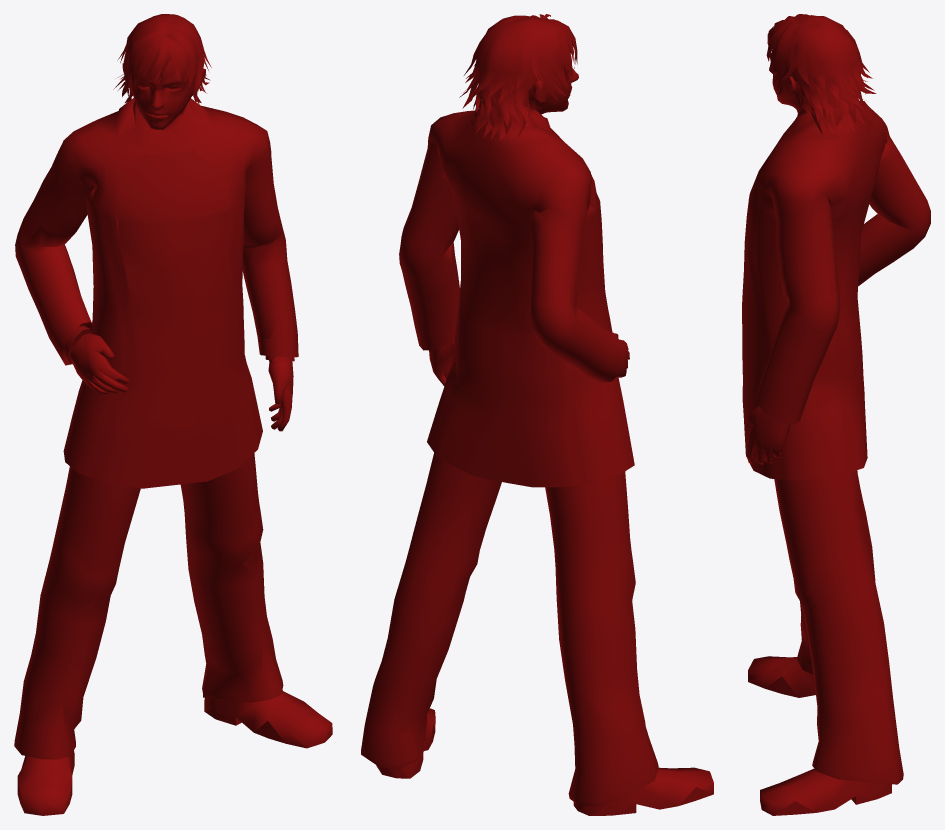
The picture shows the model from 3 angles, left to right: view 1: azimuth 30°, elevation 25°; view 2: azimuth 150°, elevation 25°; view 3: azimuth 270°, elevation 25°; orthographic projection. The views are drawn at different scales.
Visible parts, largest first — view 1: body_001; view 2: body_001; view 3: body_001.
Boxes of the visible parts, x1,y1,x2,y2 form: body_001: (14,14,332,815); body_001: (361,14,713,815); body_001: (742,14,930,815).
Bounding box in the file's own units: 2041 × 4635 × 1091.
